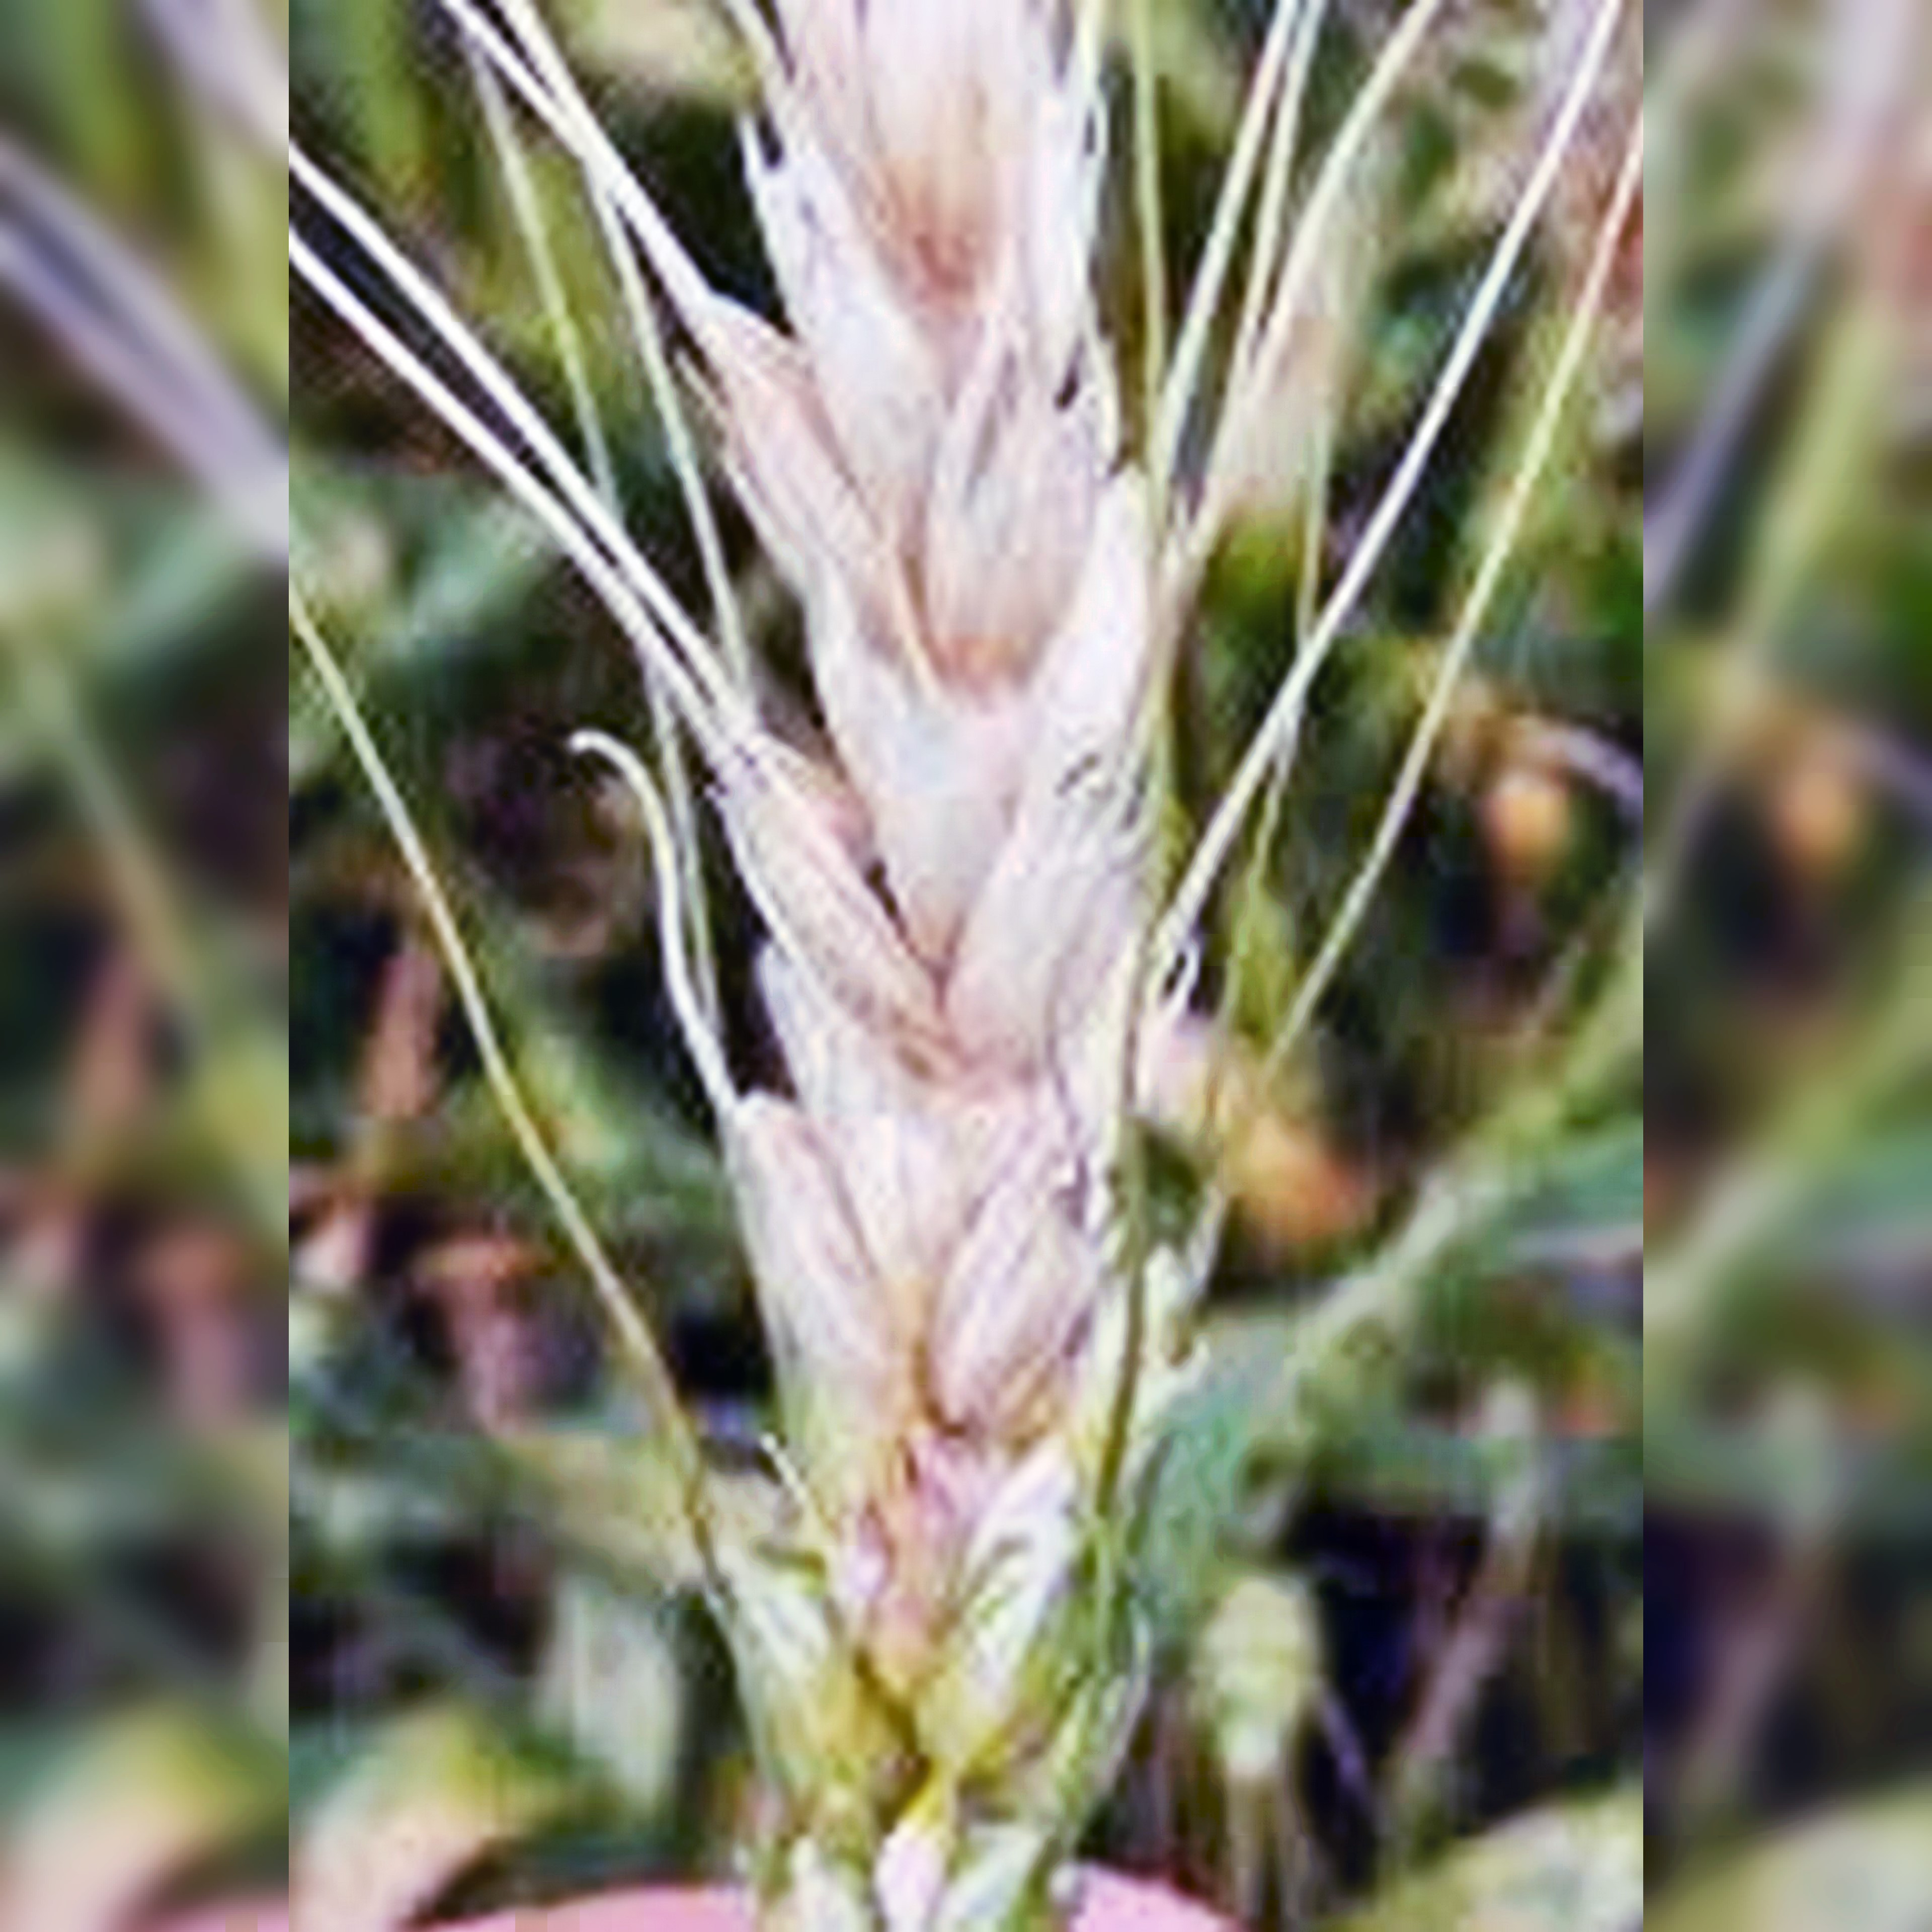Wheat scab: (663, 51, 1210, 1916)
